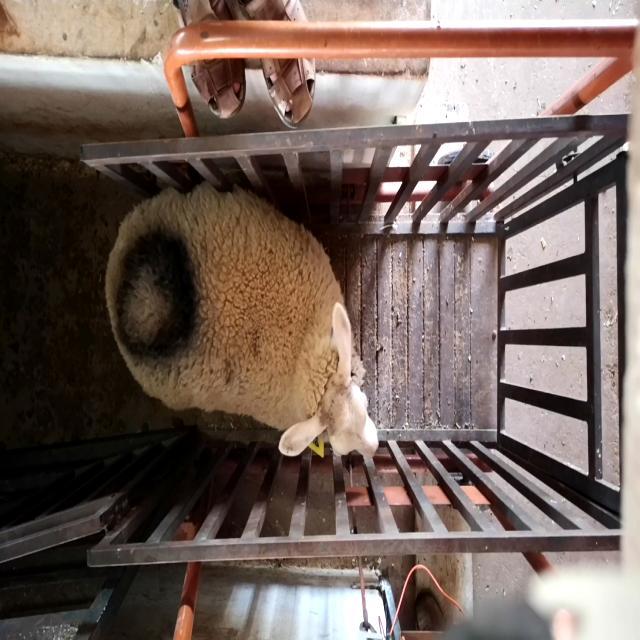sheep: (105, 184, 380, 460)
